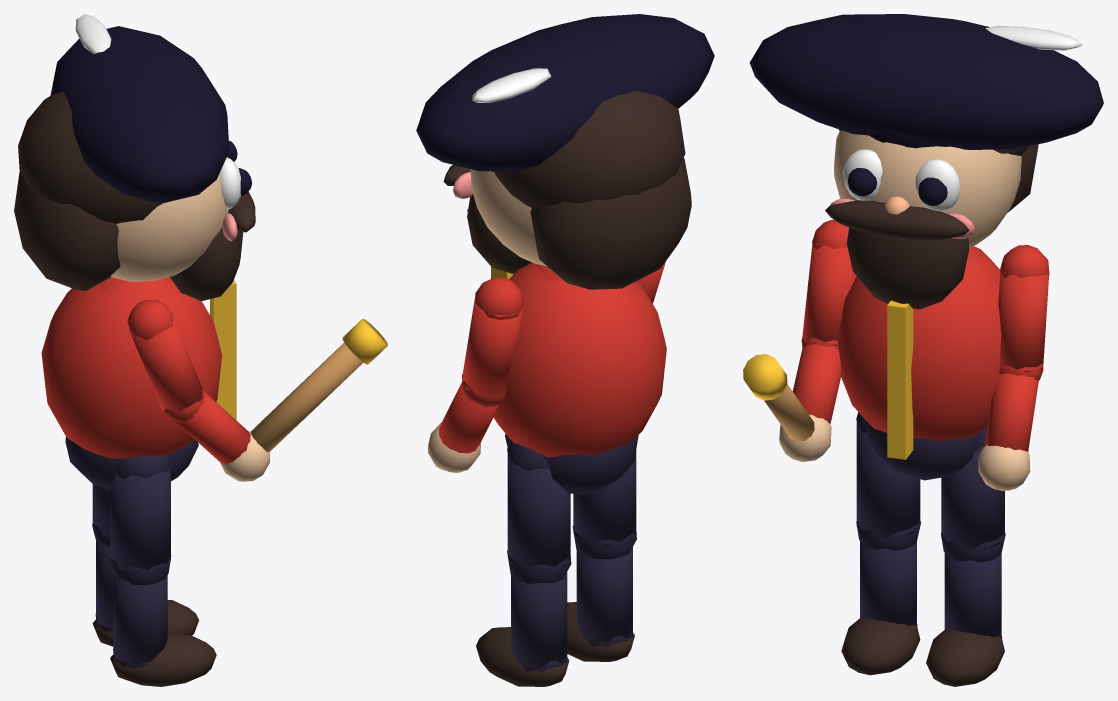
Rendered from kapitan.glb.
The picture shows the model from 3 angles, left to right: view 1: azimuth 30°, elevation 25°; view 2: azimuth 150°, elevation 25°; view 3: azimuth 270°, elevation 25°; orthographic projection. The views are drawn at different scales.
Visible parts, largest first — view 1: Sphere.013, Sphere.018, Sphere.011, Sphere.012, Sphere.002, Cylinder.004, Cylinder.005, Cylinder.008, Cylinder, Sphere.031, Sphere.016, Cylinder.001 (+14 smaller); view 2: Sphere.013, Sphere.018, Sphere.011, Sphere.012, Cylinder.006, Cylinder.007, Cylinder.005, Cylinder.002, Cylinder.004, Sphere.002, Sphere.001, Sphere.036 (+10 smaller); view 3: Sphere.013, Sphere.018, Sphere.002, Sphere.016, Cylinder.004, Cylinder.006, Cylinder.002, Cylinder.007, Cylinder.005, Cube, Cylinder, Sphere.017 (+20 smaller).
Part boxes in pixels (x1,y1,x2,y2): Sphere.013: [50, 26, 229, 202]; Sphere.018: [41, 277, 221, 458]; Sphere.011: [18, 92, 162, 223]; Sphere.012: [14, 171, 120, 290]; Sphere.002: [110, 173, 228, 281]; Cylinder.004: [110, 466, 170, 572]; Cylinder.005: [113, 575, 167, 664]; Cylinder.008: [250, 342, 363, 451]; Cylinder: [131, 316, 202, 413]; Sphere.031: [110, 633, 216, 686]; Sphere.016: [170, 227, 243, 301]; Cylinder.001: [175, 391, 250, 464]; Sphere.013: [416, 14, 714, 171]; Sphere.018: [493, 262, 666, 457]; Sphere.011: [494, 90, 685, 208]; Sphere.012: [530, 158, 691, 289]; Cylinder.006: [507, 454, 570, 571]; Cylinder.007: [511, 572, 567, 667]; Cylinder.005: [576, 547, 632, 642]; Cylinder.002: [462, 297, 522, 396]; Cylinder.004: [573, 450, 636, 546]; Sphere.002: [470, 169, 546, 266]; Sphere.001: [505, 434, 638, 494]; Sphere.036: [476, 627, 569, 686]; Sphere.013: [749, 14, 1103, 149]; Sphere.018: [837, 246, 1001, 441]; Sphere.002: [834, 130, 1021, 248]; Sphere.016: [847, 227, 968, 309]; Cylinder.004: [856, 423, 920, 538]; Cylinder.006: [941, 446, 1004, 549]; Cylinder.002: [998, 271, 1048, 371]; Cylinder.007: [944, 553, 1001, 637]; Cylinder.005: [860, 541, 916, 625]; Cube: [887, 300, 913, 459]; Cylinder: [802, 243, 856, 345]; Sphere.017: [825, 200, 969, 240].
Bounding box in the file's own units: 0.6651 × 1.38 × 0.7077.
